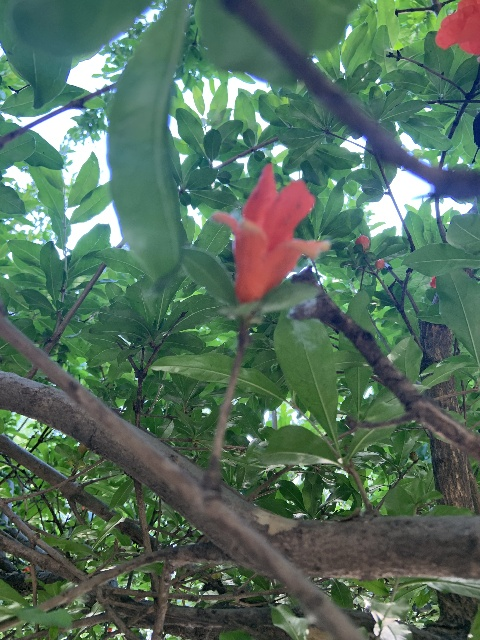bud: (355, 234, 370, 252), (374, 258, 384, 270)
flower: (212, 162, 329, 303)
